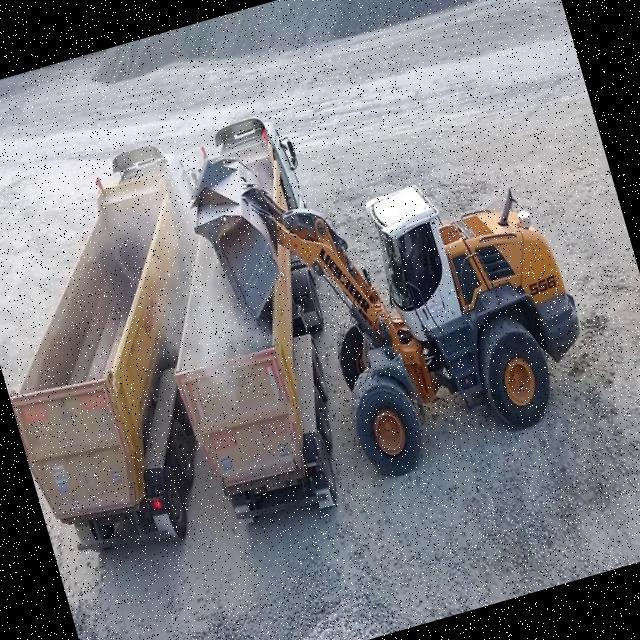Dump Truck: (0, 131, 288, 578), (109, 106, 393, 543)
Loader: (175, 67, 610, 514)
